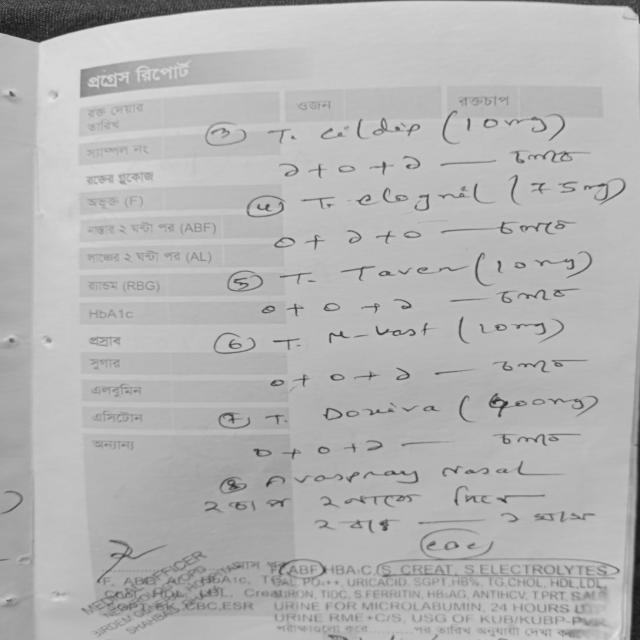Avaspray: (262, 467, 427, 488)
Cildip: (317, 116, 424, 143)
Clognil: (346, 182, 494, 214)
Doxiva: (319, 400, 444, 431)
M Kast: (325, 318, 446, 349)
Taven: (343, 262, 465, 289)
